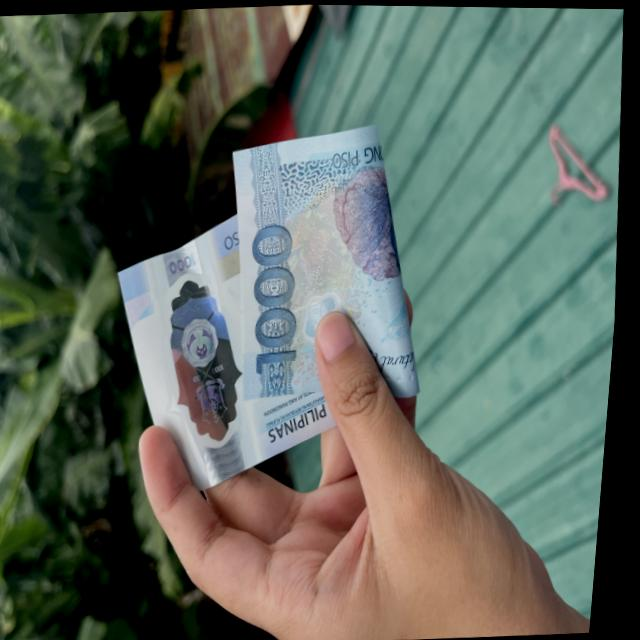clear_window: (143, 225, 277, 497)
